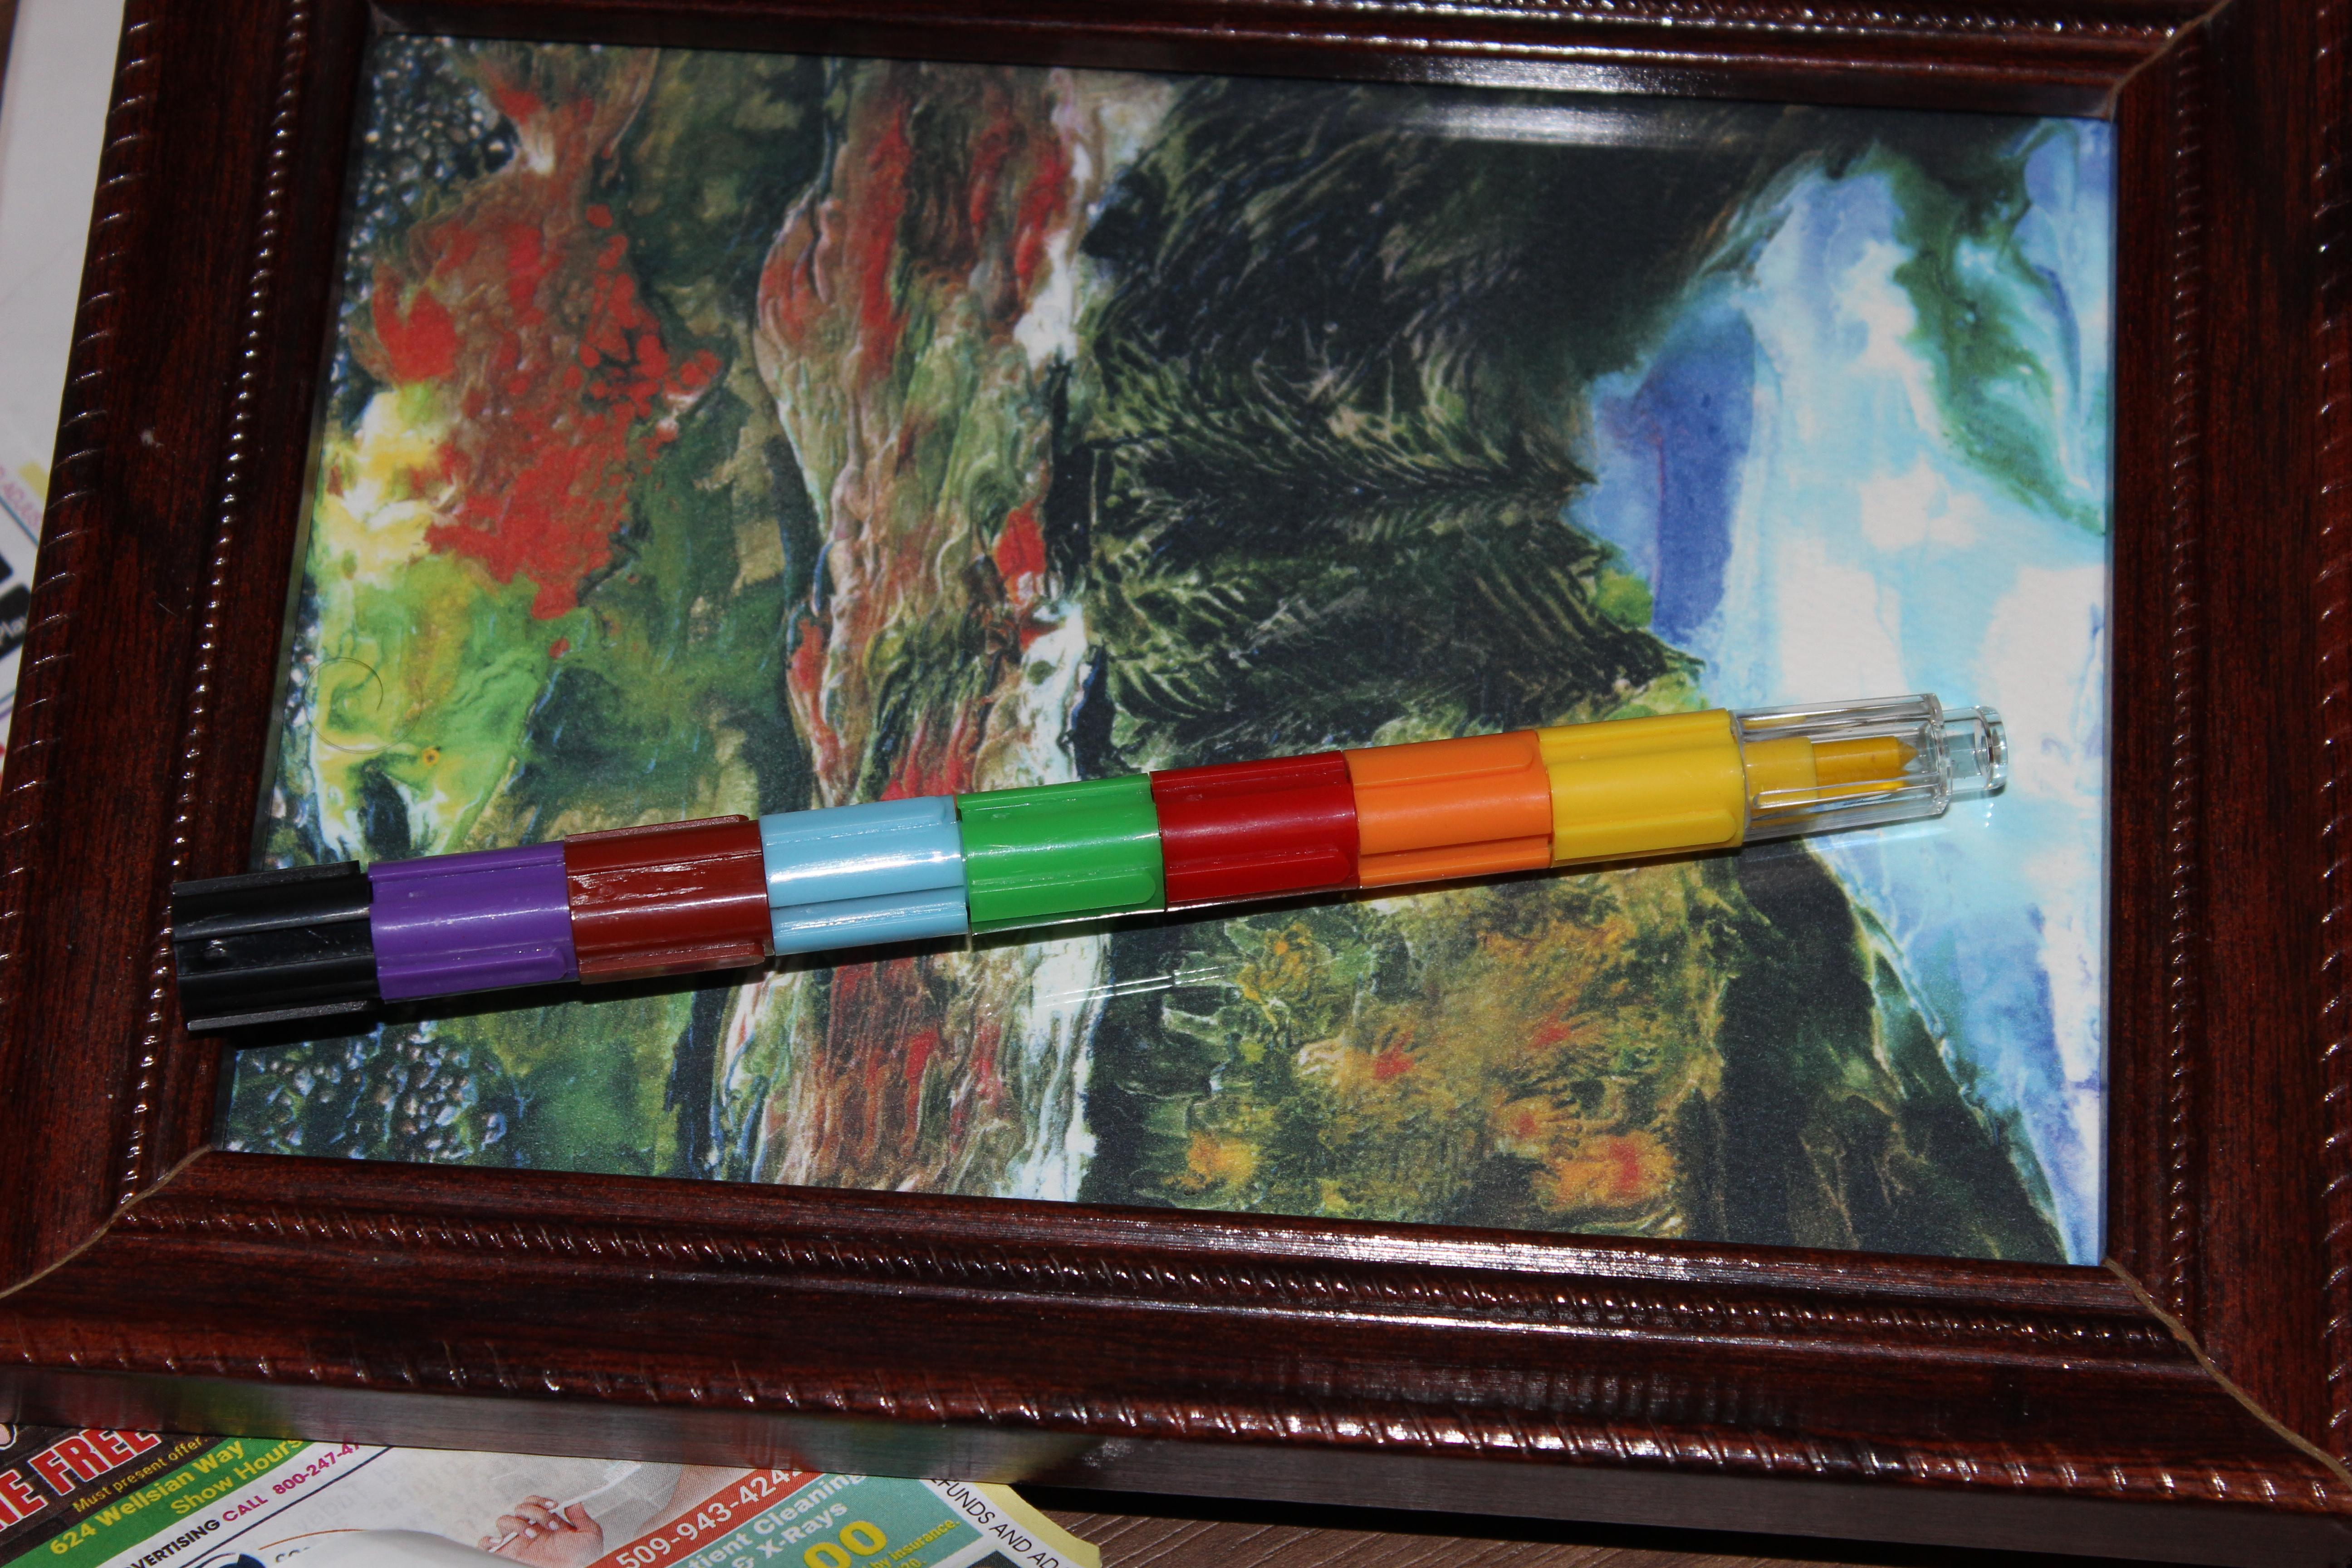rainbowPens: (121, 642, 2035, 1085)
